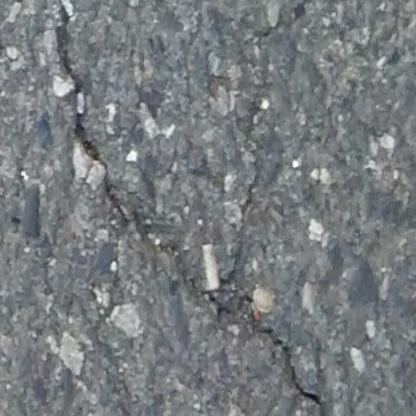Cracks: (53, 0, 332, 416), (256, 0, 313, 47)
